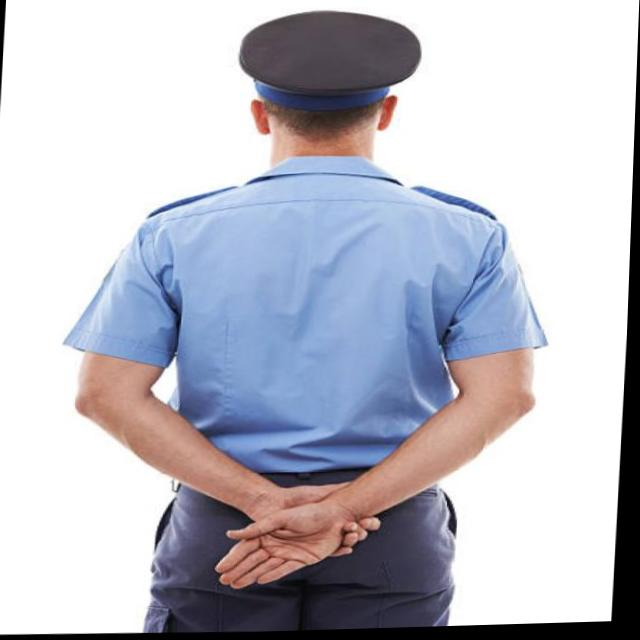no helmet: (218, 0, 446, 188)
